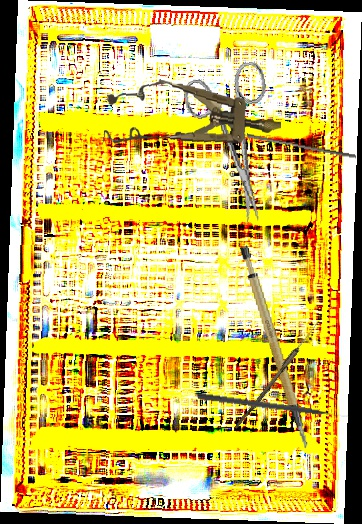Iris Scissors: (180, 60, 291, 230)
Pusher: (196, 392, 350, 422), (246, 133, 357, 159)
Scalpel Handle: (236, 240, 310, 457)
Speculum: (102, 74, 285, 162)
Surgical Spoon: (234, 319, 321, 431)
